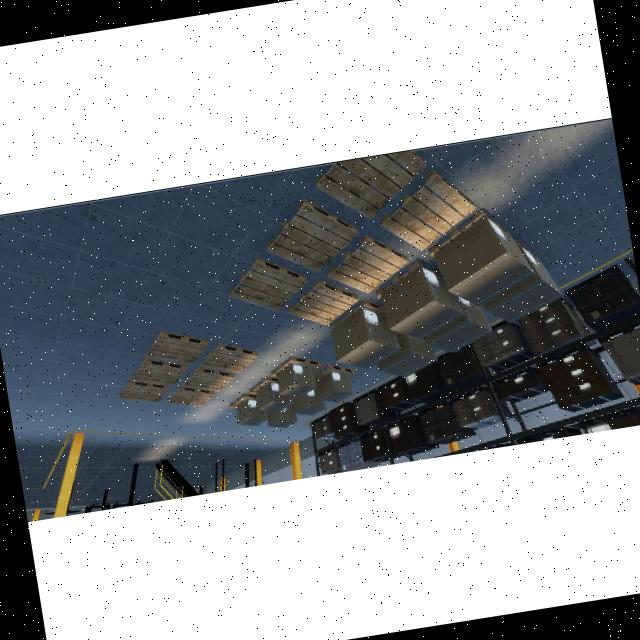wooden_pallet: (381, 170, 476, 250), (266, 200, 358, 272), (328, 234, 408, 293), (229, 256, 308, 311), (429, 208, 512, 258), (288, 279, 360, 326), (376, 261, 442, 299), (146, 330, 209, 365), (201, 343, 259, 373), (332, 300, 385, 329), (183, 368, 234, 391), (271, 356, 323, 378), (119, 381, 170, 403), (167, 386, 215, 407), (314, 364, 356, 381), (249, 377, 279, 395), (229, 393, 258, 409)
